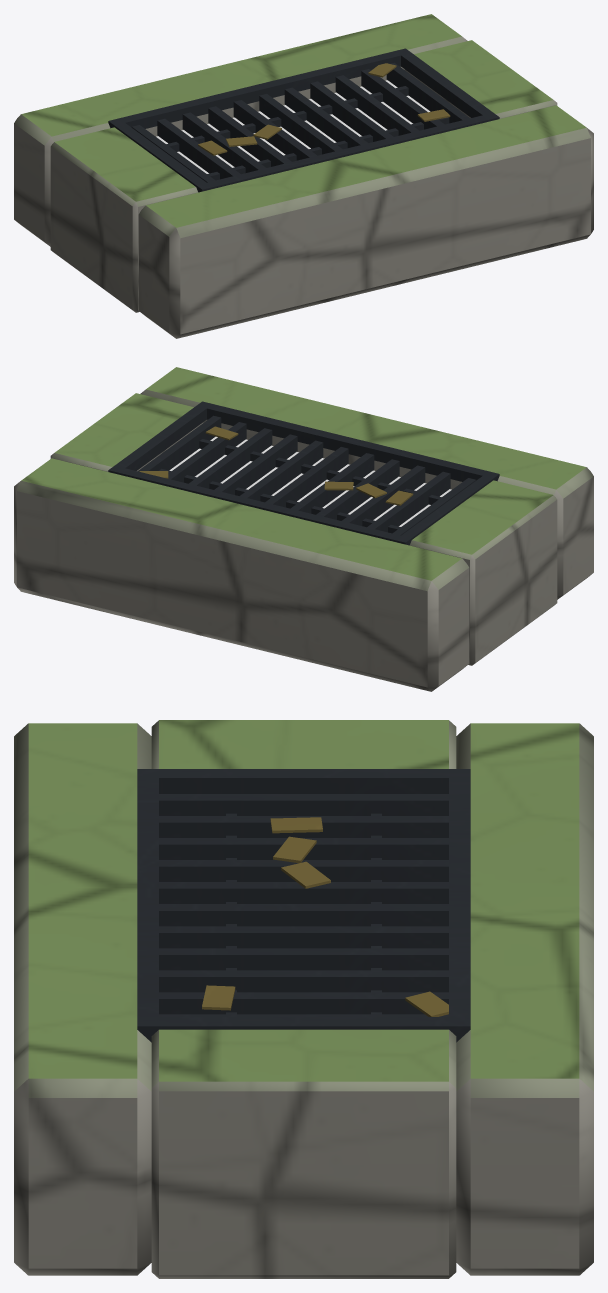
File: drainage_grate.glb
The picture shows the model from 3 angles, top to bottom: view 1: azimuth 30°, elevation 25°; view 2: azimuth 150°, elevation 25°; view 3: azimuth 270°, elevation 25°; orthographic projection. The views are drawn at different scales.
Parts seen in each view (by area): view 1: drainage_grate; view 2: drainage_grate; view 3: drainage_grate.
Boxes of the visible parts, x1,y1,x2,y2 form: drainage_grate: (14, 14, 593, 338); drainage_grate: (14, 367, 593, 691); drainage_grate: (14, 720, 593, 1278).
Size of the model in its own units: 1.2 by 0.305 by 0.8.
4 materials, 4 textured.
